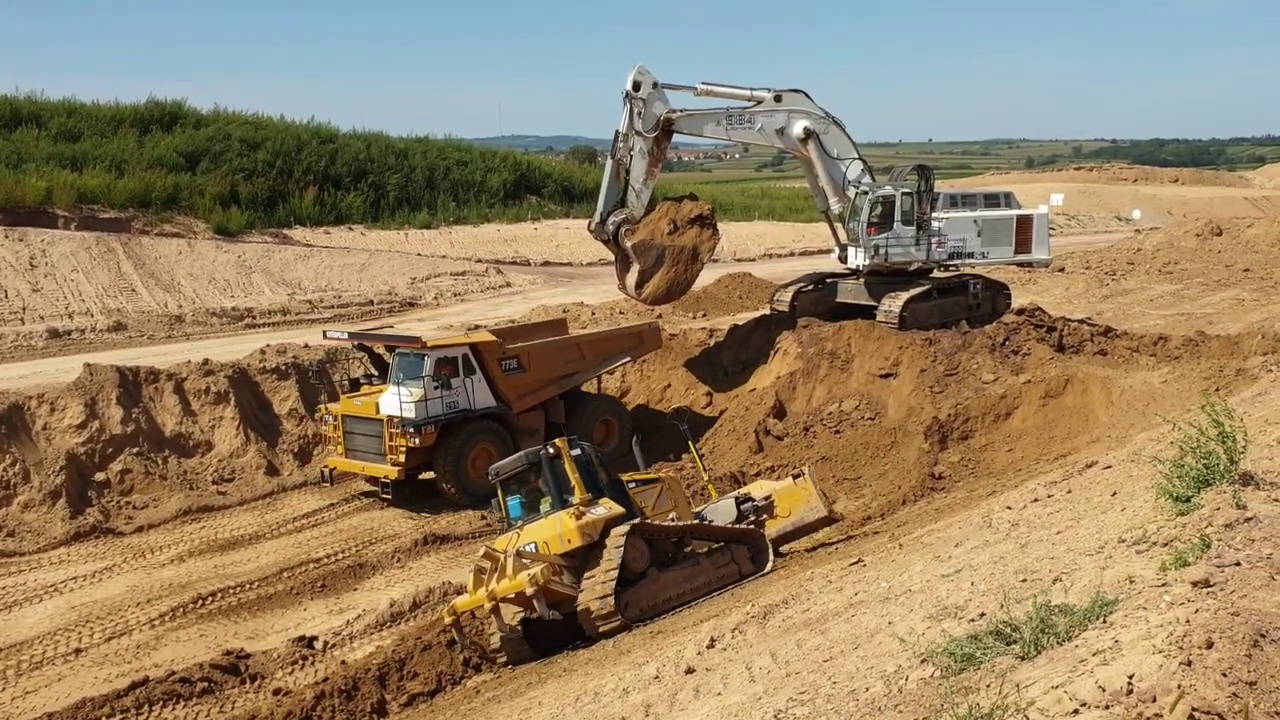bulldozer: (442, 416, 839, 668)
excavator: (587, 59, 1060, 338)
truck: (305, 316, 668, 514)
